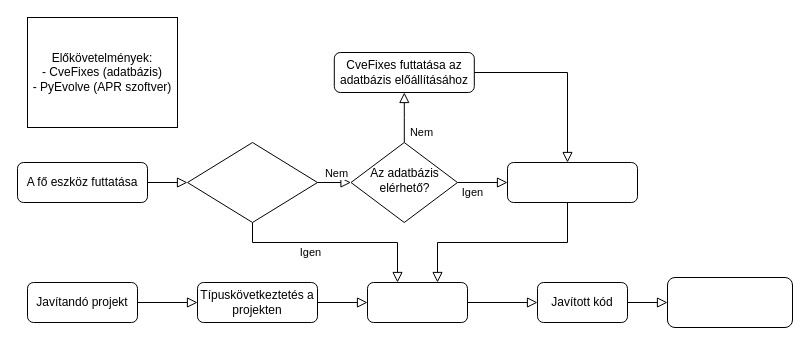
This 810x345 diagram has some shape labels left out. Here are the shapes that lost their labels. From the top down, the centre of each, then its label:
the point at 252,182: A szabályok be vannak tanulva?
the point at 572,182: Szabályok betanulása
the point at 417,302: PyEvolve API használata
the point at 729,302: Sérülékenységjavítás kiértékelése
